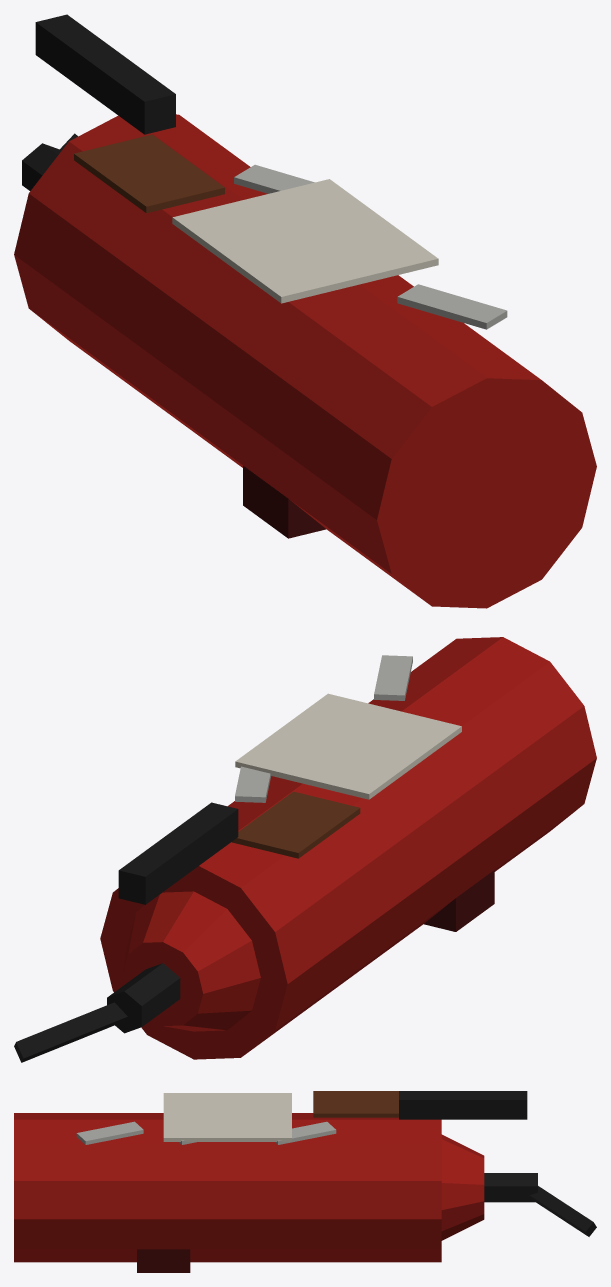
Rendered from extinguisher_w2.glb.
3 views of the same model, one above another, from view 1: azimuth 30°, elevation 25°; view 2: azimuth 150°, elevation 25°; view 3: azimuth 270°, elevation 25° (orthographic). The views are drawn at different scales.
Parts seen in each view (by area): view 1: extinguisher_w2; view 2: extinguisher_w2; view 3: extinguisher_w2.
Boxes of the visible parts, x1=… form: extinguisher_w2: x1=14, y1=14, x2=596, y2=608; extinguisher_w2: x1=14, y1=637, x2=596, y2=1062; extinguisher_w2: x1=14, y1=1091, x2=596, y2=1272.
Bounding box in the file's own units: 0.14 × 0.165 × 0.5453.
